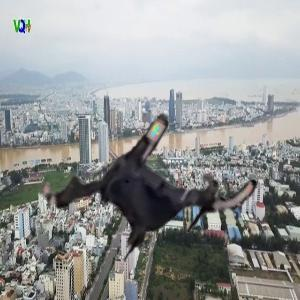drone: (43, 87, 252, 296)
